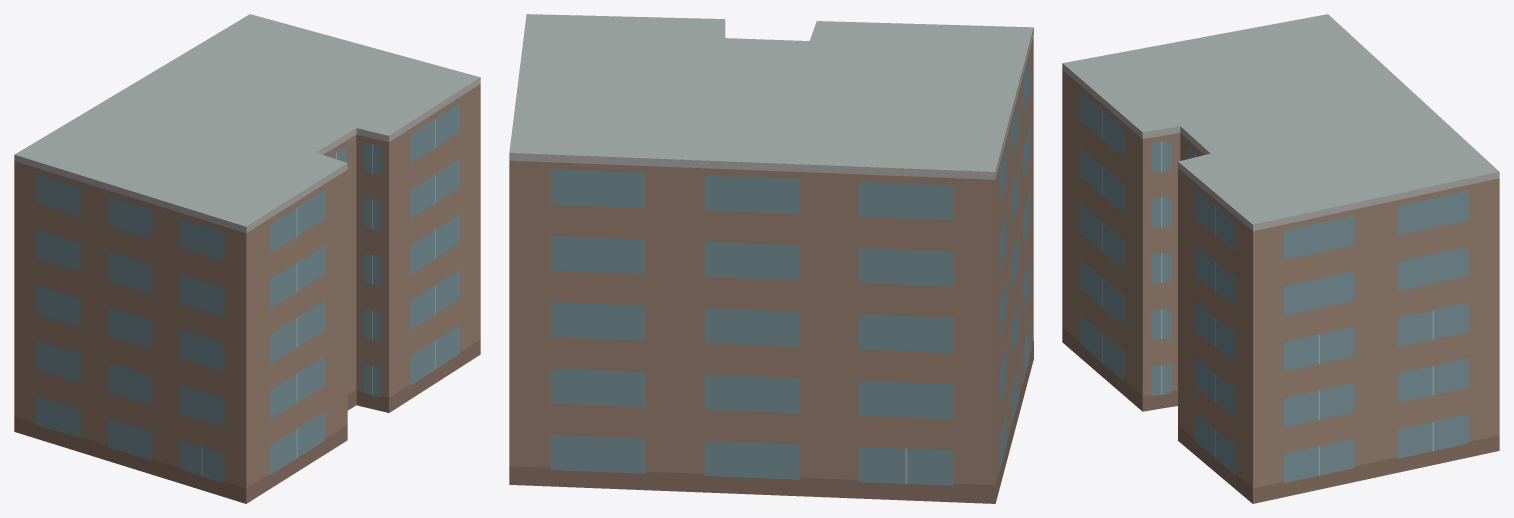
The model's file is survey-upis-32738540.glb.
The picture shows the model from 3 angles, left to right: view 1: azimuth 30°, elevation 25°; view 2: azimuth 150°, elevation 25°; view 3: azimuth 270°, elevation 25°; orthographic projection. The views are drawn at different scales.
Parts seen in each view (by area): view 1: survey-upis-32738540.tmp; view 2: survey-upis-32738540.tmp; view 3: survey-upis-32738540.tmp.
Boxes of the visible parts, bbox=[...] form: survey-upis-32738540.tmp: bbox=[14, 14, 480, 503]; survey-upis-32738540.tmp: bbox=[509, 14, 1033, 503]; survey-upis-32738540.tmp: bbox=[1062, 14, 1499, 503].
Size of the model in its own units: 17.02 by 10.5 by 14.92.
